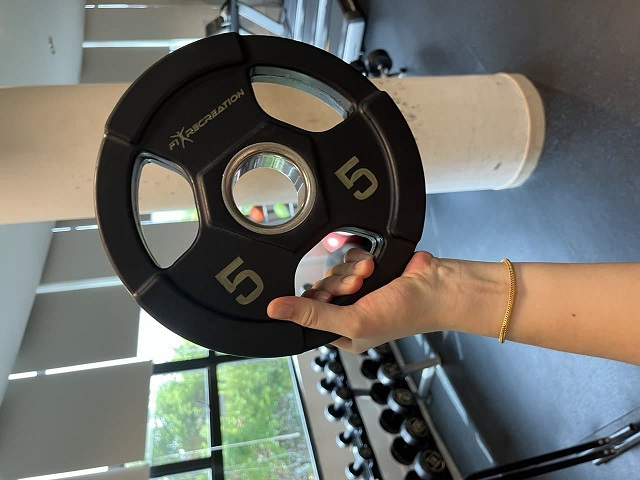weights: (92, 27, 426, 359)
